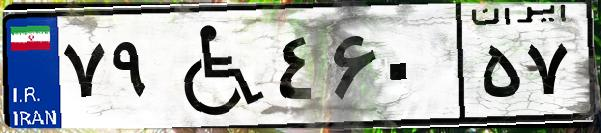0: (385, 28, 445, 110)
4: (270, 28, 330, 110)
5: (475, 38, 525, 113)
6: (330, 28, 385, 110)
7: (57, 26, 110, 100), (525, 38, 570, 115)
9: (110, 28, 158, 98)
ژ (معلولین و جانبازان): (158, 12, 270, 120)
